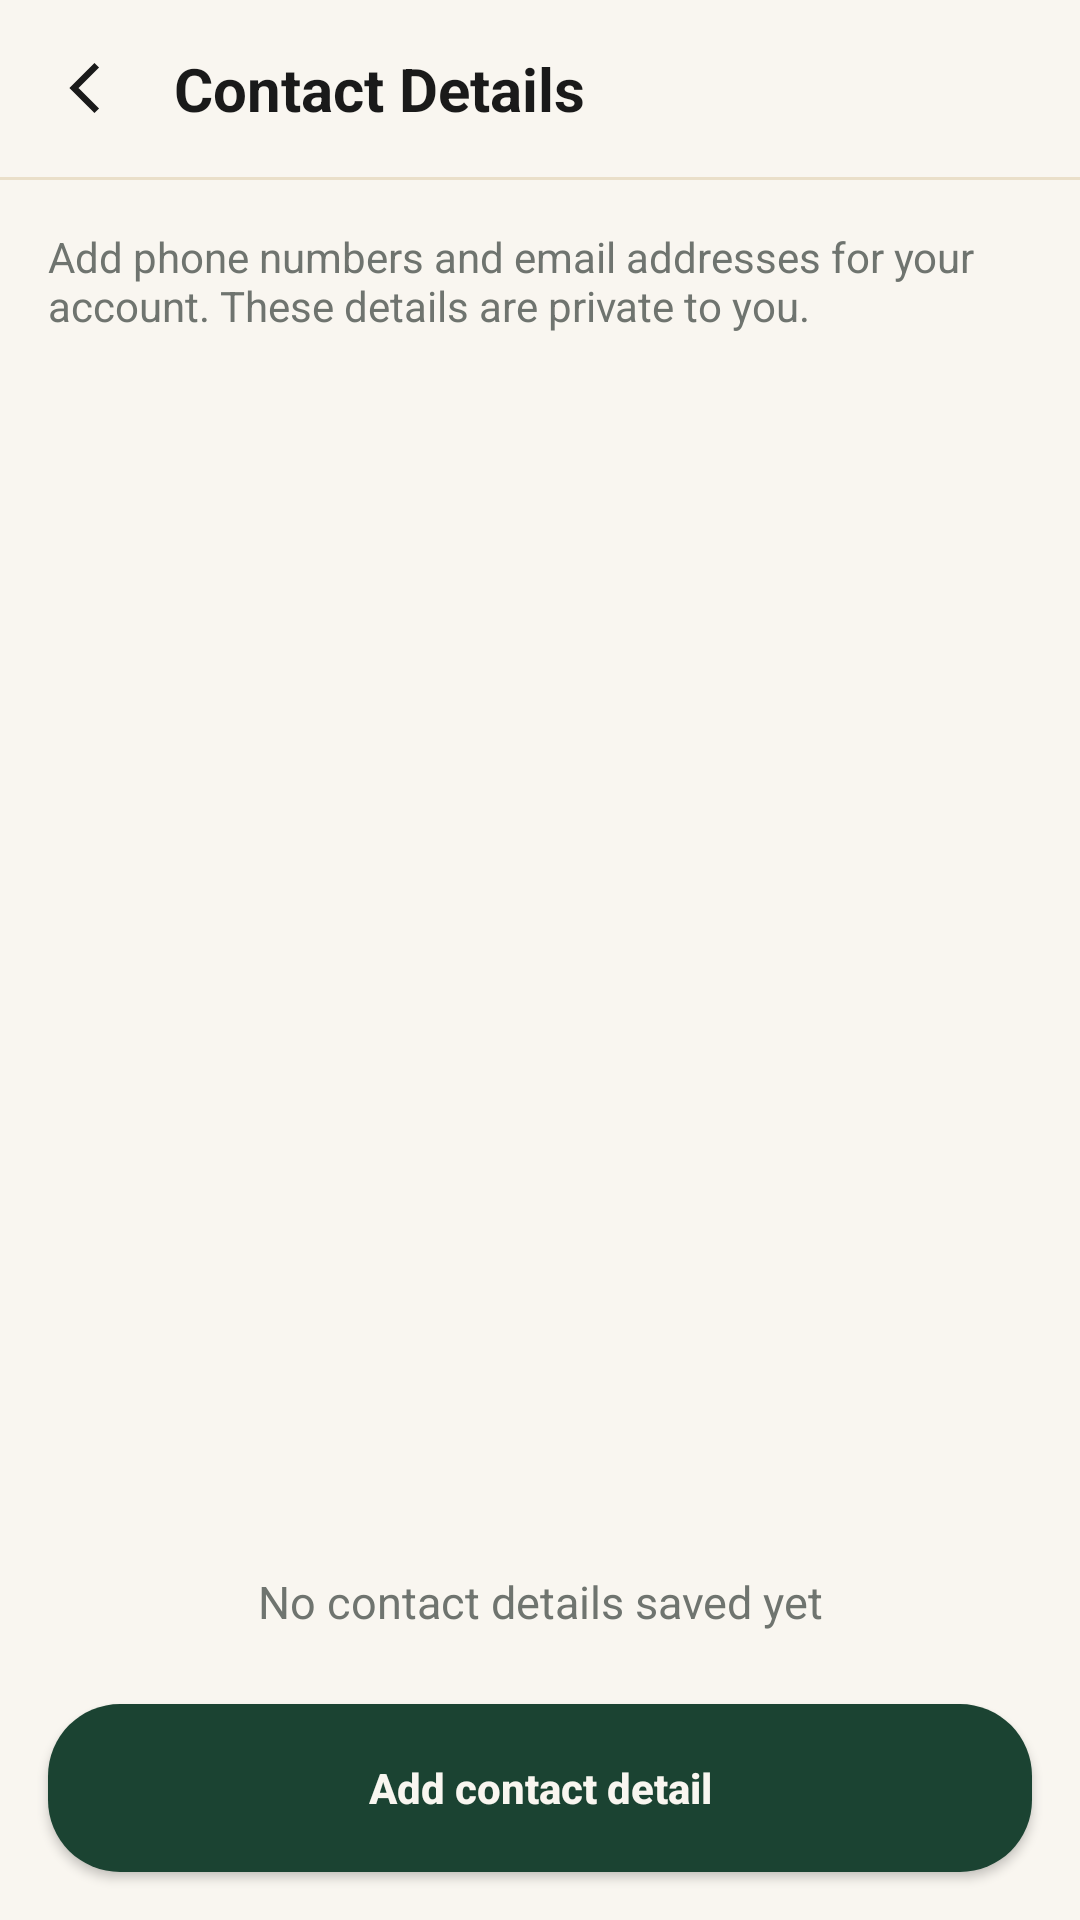

Where to tap for icons on this 1080w x 1920h app screen, as [x,y]:
Back: [84,88]
